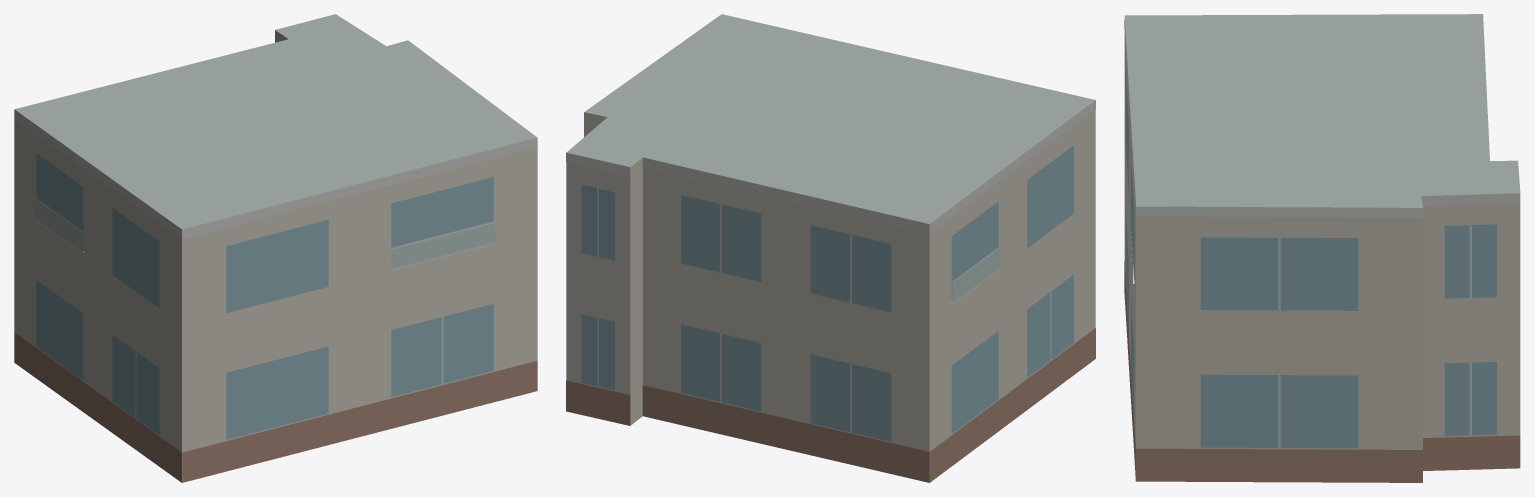
File: survey-upis-32607237.glb
3 renders of one model, left to right at view 1: azimuth 30°, elevation 25°; view 2: azimuth 150°, elevation 25°; view 3: azimuth 270°, elevation 25°, orthographic. The views are drawn at different scales.
Parts seen in each view (by area): view 1: survey-upis-32607237.tmp; view 2: survey-upis-32607237.tmp; view 3: survey-upis-32607237.tmp.
Boxes of the visible parts, x1,y1,x2,y2 form: survey-upis-32607237.tmp: (14, 14, 537, 482); survey-upis-32607237.tmp: (566, 14, 1095, 482); survey-upis-32607237.tmp: (1124, 14, 1520, 482).
Bounding box in the file's own units: 9.86 × 6.5 × 8.49.
